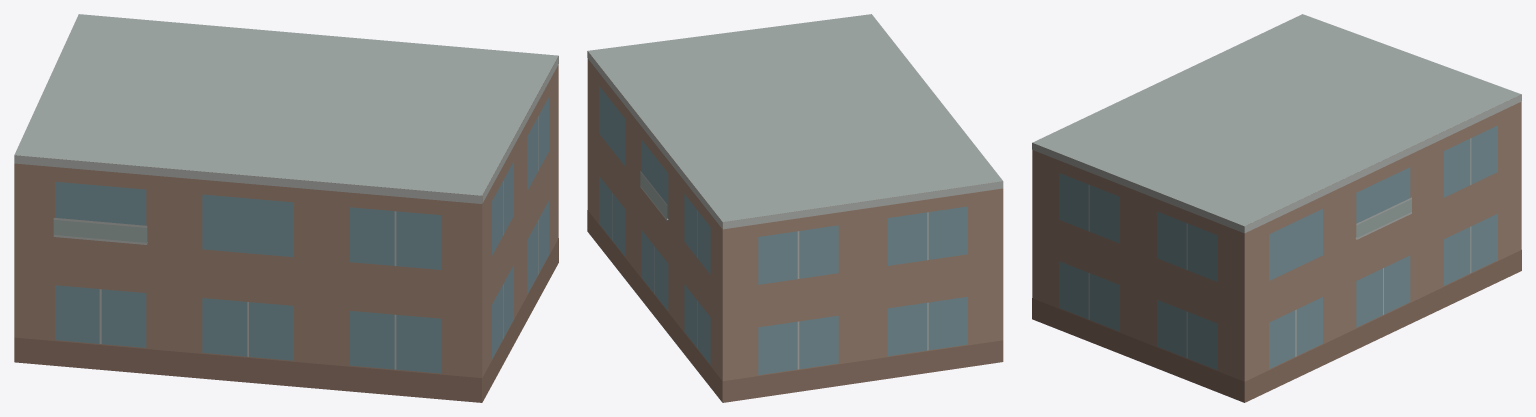
Rendered from survey-upis-32946317.glb.
3 views of the same model, side by side, from view 1: azimuth 30°, elevation 25°; view 2: azimuth 150°, elevation 25°; view 3: azimuth 270°, elevation 25° (orthographic). The views are drawn at different scales.
Parts seen in each view (by area): view 1: survey-upis-32946317.tmp; view 2: survey-upis-32946317.tmp; view 3: survey-upis-32946317.tmp.
Boxes of the visible parts, x1,y1,x2,y2 form: survey-upis-32946317.tmp: [14, 14, 558, 402]; survey-upis-32946317.tmp: [587, 14, 1003, 402]; survey-upis-32946317.tmp: [1032, 14, 1521, 402].
Size of the model in its own units: 15.75 by 6.1 by 15.34.
